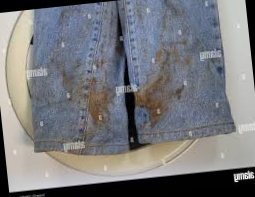earth: (134, 79, 169, 124), (81, 82, 113, 126)
